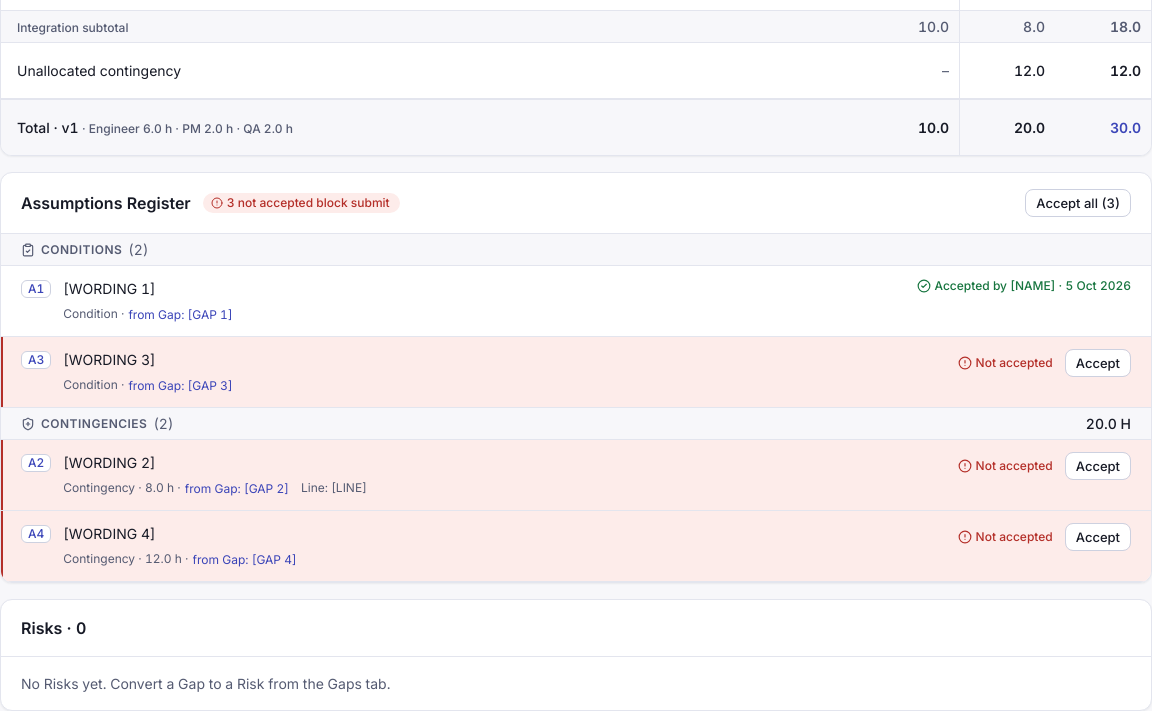
Test: the Assumptions Register › Accept accepts with If-Match and the grid refreshes from the server
(page scrolled)
Click the button with aria-label "Accept: [WORDING 2]" at {"x": 1098, "y": 466}, box [1065,452,1131,480]
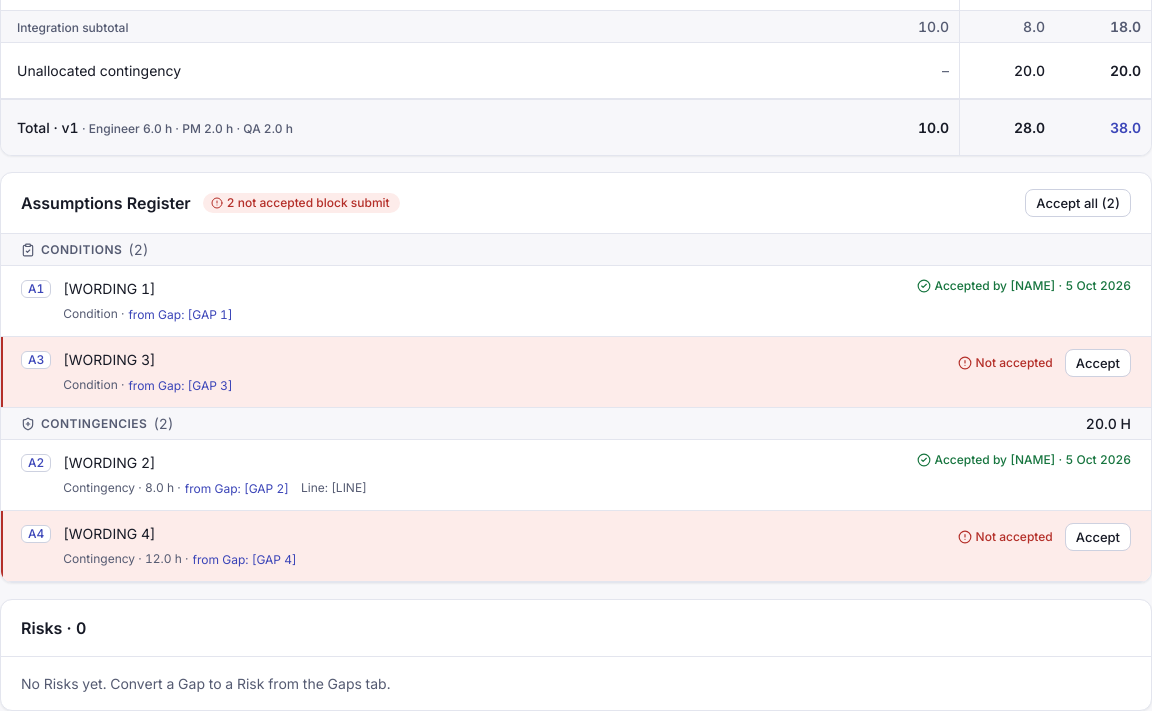
Now the text "2 not accepted block submit" is shown, box [203,193,400,213]
Now the text "Accepted by [NAME] · 5 Oct 2026" in the row of "A2" is shown, box [934,452,1131,467]
Now the button "Accept all (2)" is shown, box [1025,189,1131,217]
